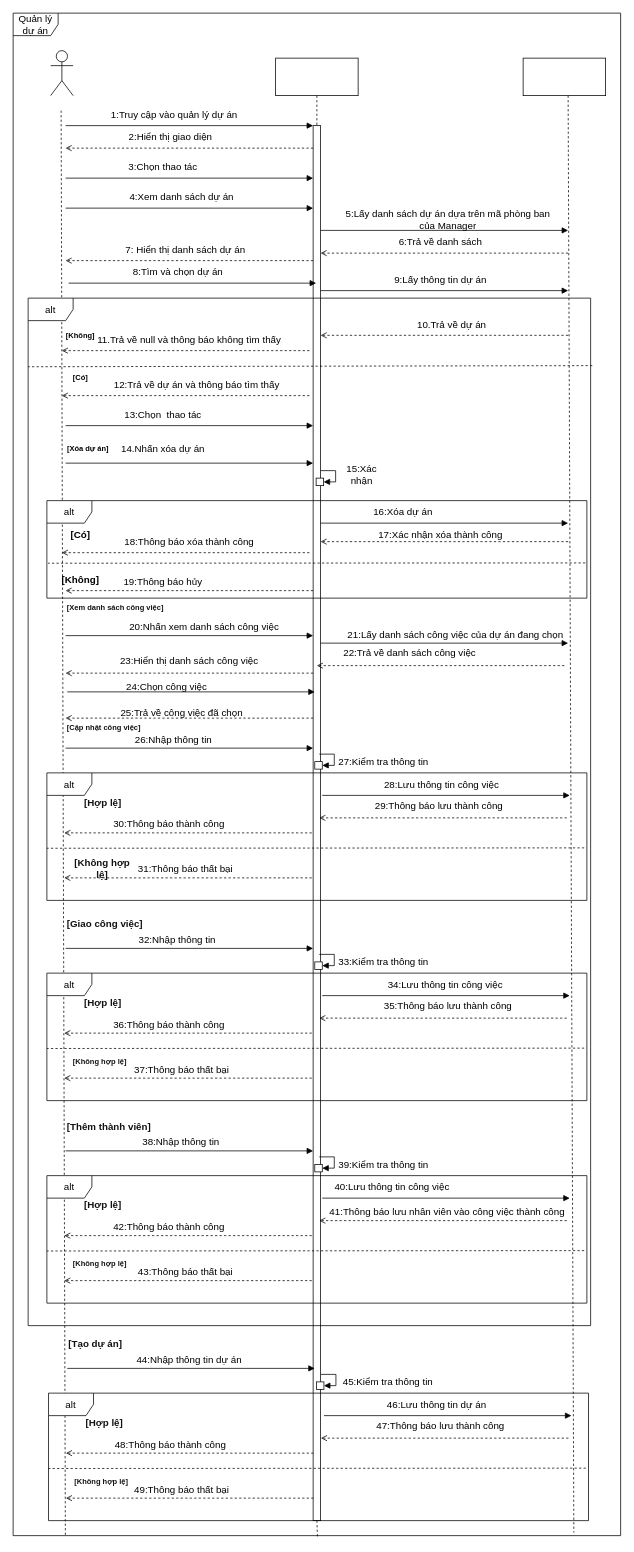
This 634x1552 diagram has some shape labels left out. The shapes that lost their labels are listed below. From the top down, each one's centre as x and y in pixels, then its label:
pixel 61 73: Manager
pixel 316 76: Hệ thống
pixel 564 76: Cơ sở dữ liệu quản lý dự án
